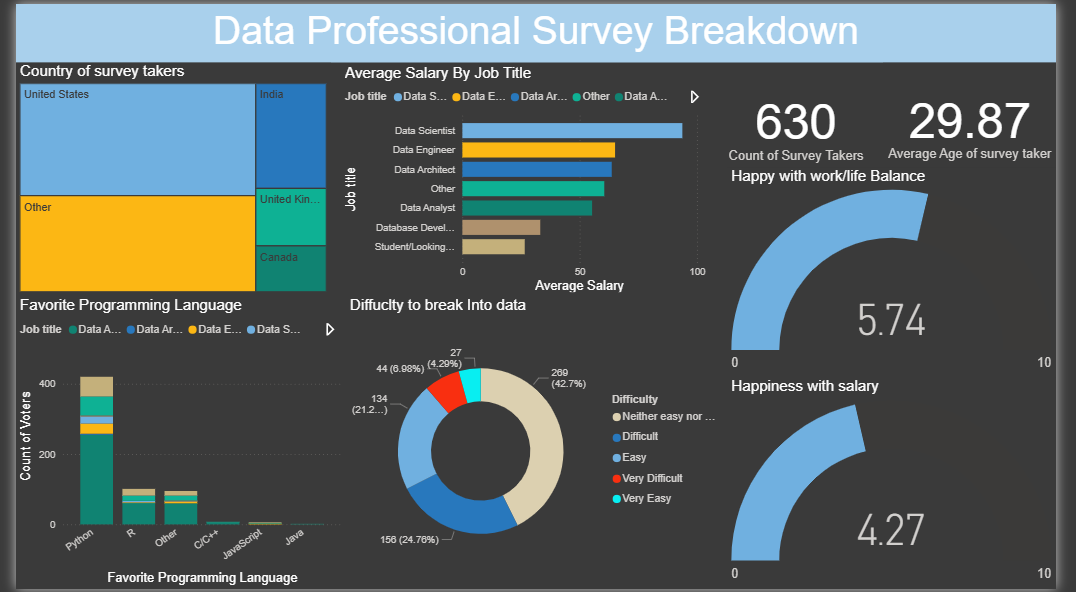

The page's visual inventory and layout, read from the dashboard file:
{"tool":"powerbi","page":{"name":"Page 1","canvas":[1280,720],"ordinal":0},"visuals":[{"type":"textbox","box":[9.6,0,1270.7,72.7],"z":0},{"type":"card","fields":{"Values":["CountNonNull(Data Professional Survey.Unique ID)"]},"box":[854.3,74.3,212.9,150],"z":1000},{"type":"card","fields":{"Values":["Avg(Data Professional Survey.Q10 - Current Age)"]},"box":[1067.1,72.9,212.9,150],"z":2000},{"type":"barChart","title":"Average Salary By Job Title ","fields":{"Category":["Data Professional Survey.Q1 - Which Title Best Fits your Current Role?.1"],"Y":["Avg(Data Professional Survey.Average Salary)"],"Series":["Data Professional Survey.Q1 - Which Title Best Fits your Current Role?.1"]},"box":[400,74.3,454.3,285.7],"z":3000},{"type":"columnChart","title":"  Favorite Programming Language","fields":{"Category":["Data Professional Survey.Q5 - Favorite Programming Language.1"],"Y":["CountNonNull(Data Professional Survey.Unique ID)"],"Series":["Data Professional Survey.Q1 - Which Title Best Fits your Current Role?.1"]},"box":[0,360,405.7,360],"z":4000},{"type":"treemap","title":"Country of survey takers","fields":{"Group":["Data Professional Survey.Q11 - Which Country do you live in?.1"],"Values":["CountNonNull(Data Professional Survey.Q11 - Which Country do you live in?.1)"]},"box":[0,72.9,387.1,287.1],"z":5000},{"type":"gauge","title":"Happy with work/life Balance ","fields":{"Y":["Avg(Data Professional Survey.Q6 - How Happy are you in your Current Position with the following? (Work/Life Balance))"],"MinValue":["Min(Data Professional Survey.Q6 - How Happy are you in your Current Position with the following? (Work/Life Balance))"],"MaxValue":["Max(Data Professional Survey.Q6 - How Happy are you in your Current Position with the following? (Work/Life Balance))1"]},"box":[875.7,201.4,404.3,258.6],"z":6000},{"type":"gauge","title":"Happiness with salary","fields":{"Y":["Avg(Data Professional Survey.Q6 - How Happy are you in your Current Position with the following? (Salary))"],"MinValue":["Min(Data Professional Survey.Q6 - How Happy are you in your Current Position with the following? (Salary))"],"MaxValue":["Max(Data Professional Survey.Q6 - How Happy are you in your Current Position with the following? (Upward Mobility))"]},"box":[875.7,460,404.3,260],"z":7000},{"type":"donutChart","title":"Diffuclty to break Into data","fields":{"Category":["Data Professional Survey.Q7 - How difficult was it for you to break into Data?"],"Y":["CountNonNull(Data Professional Survey.Q7 - How difficult was it for you to break into Data?)"]},"box":[405.7,360,470,360],"z":8000}]}

Visuals, with their boxes in screenshot pixels (x1, y1, x2, y2), scaled from the page's 1280x720 canvas onto the 1076x592 screenshot:
textbox: BBox(8, 0, 1075, 60)
card - CountNonNull(Data Professional Survey.Unique ID): BBox(718, 61, 897, 184)
card - Avg(Data Professional Survey.Q10 - Current Age): BBox(897, 60, 1075, 183)
"Average Salary By Job Title " barChart: BBox(336, 61, 718, 296)
"  Favorite Programming Language" columnChart: BBox(0, 296, 341, 591)
"Country of survey takers" treemap: BBox(0, 60, 325, 296)
"Happy with work/life Balance " gauge: BBox(736, 166, 1075, 378)
"Happiness with salary" gauge: BBox(736, 378, 1075, 591)
"Diffuclty to break Into data" donutChart: BBox(341, 296, 736, 591)
